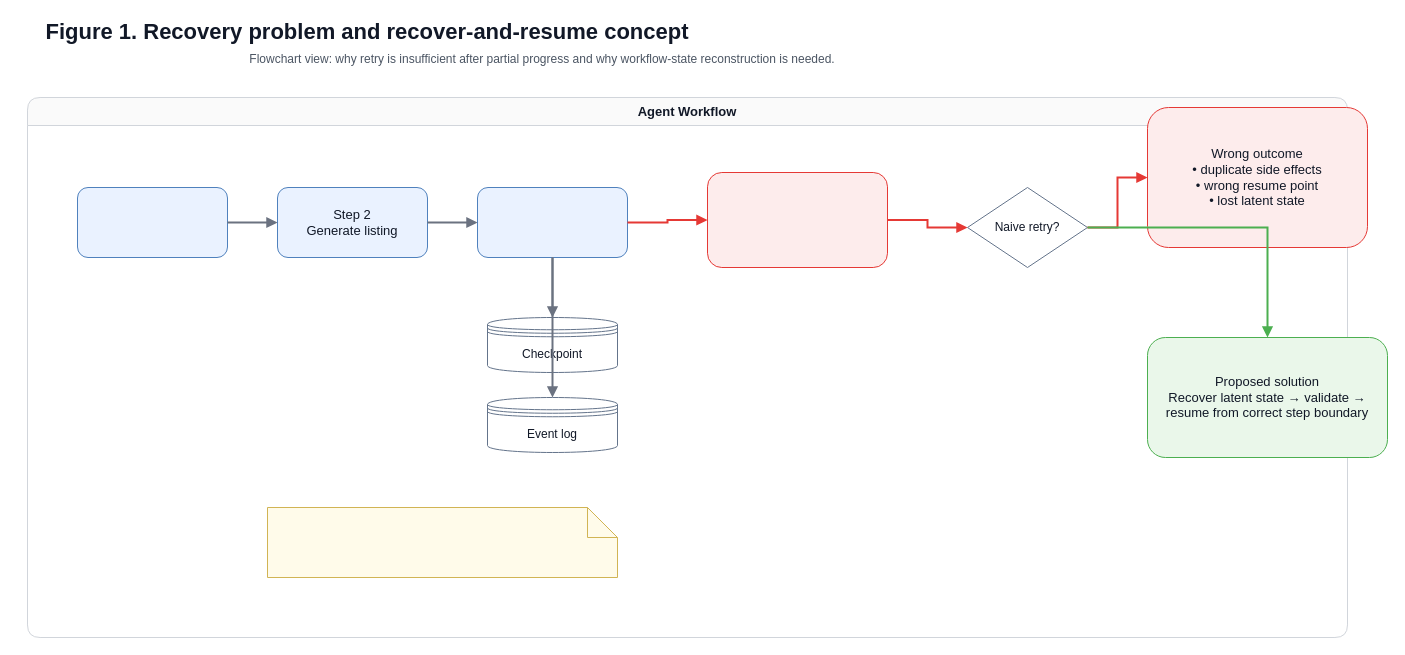
The diagram is 1405 pixels wide and 655 high, and some of its shapes have lost their labels. Each missing label, with the centre of its shape:
"External API / tool side effects make blind retry unsafe." belongs at (442,542).
"Failure after partial progress" belongs at (797,220).
"Step 1 Validate product data" belongs at (152,222).
"Step 3 Upload product" belongs at (552,222).
